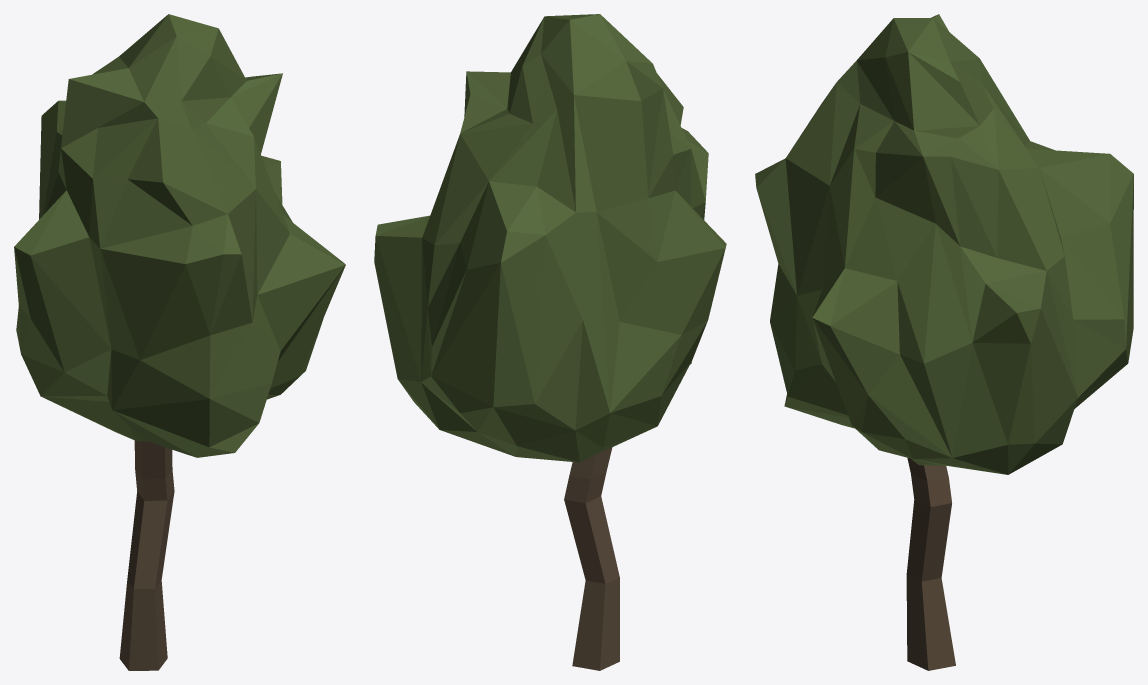
The model's file is tree_071.fbx.
The picture shows the model from 3 angles, left to right: view 1: azimuth 30°, elevation 25°; view 2: azimuth 150°, elevation 25°; view 3: azimuth 270°, elevation 25°; orthographic projection. The views are drawn at different scales.
Visible parts, largest first — view 1: tree_071; view 2: tree_071; view 3: tree_071.
Part boxes in pixels (<box>): tree_071: <box>14,14,345,670</box>; tree_071: <box>374,14,726,670</box>; tree_071: <box>755,14,1133,670</box>.
Size of the model in its own units: 0.7765 by 1.54 by 0.8074.
1 material, 1 textured.
